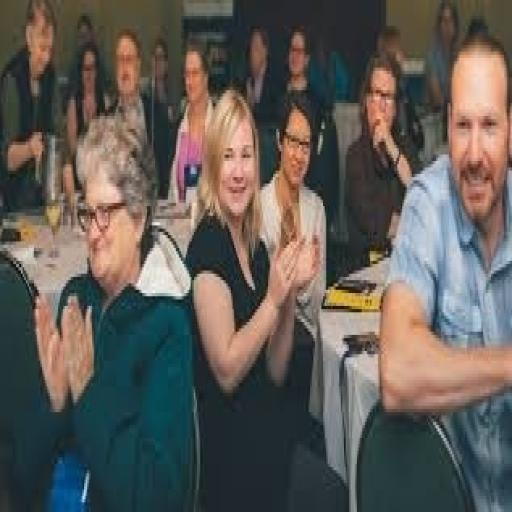clapping: (30, 109, 198, 509), (184, 84, 325, 509)
